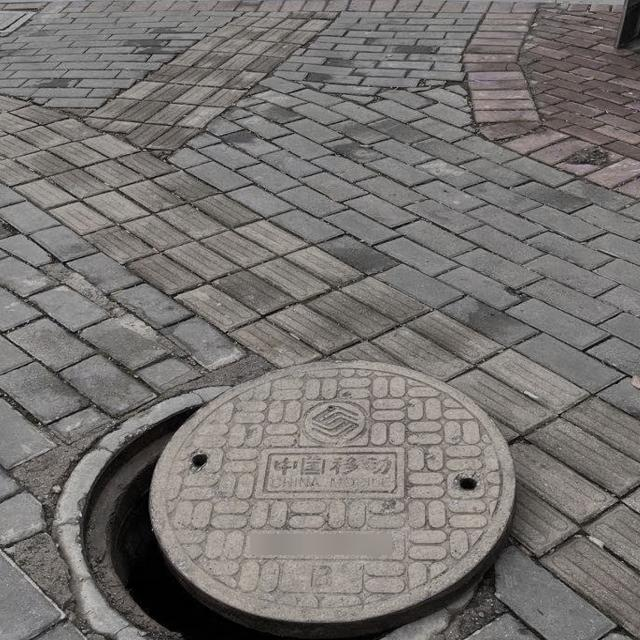uncovered: (53, 359, 518, 640)
